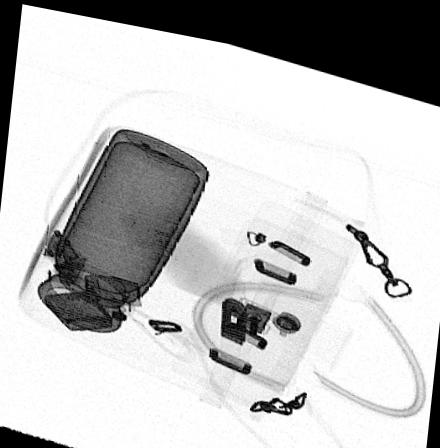Lighter: (44, 271, 142, 329)
